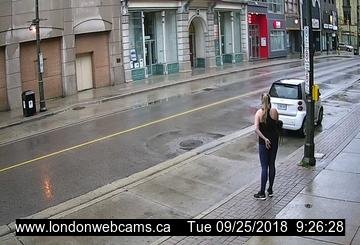Car: (269, 75, 327, 136)
person: (252, 91, 281, 202)
